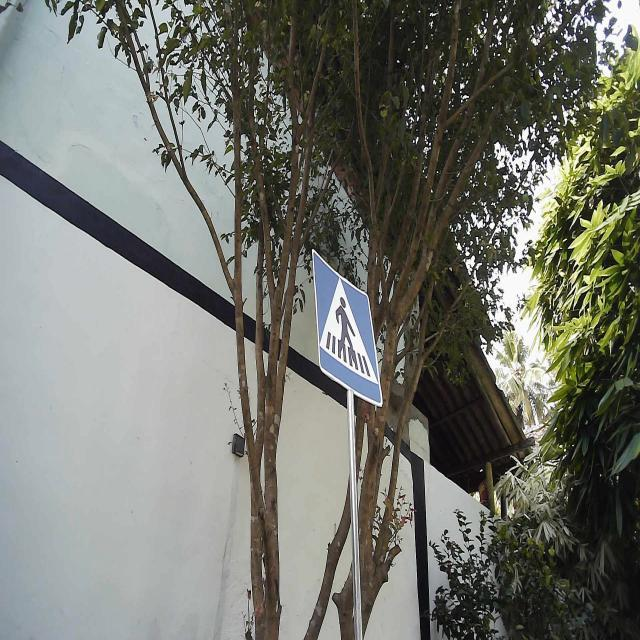crosswalk_sign: (310, 246, 385, 410)
